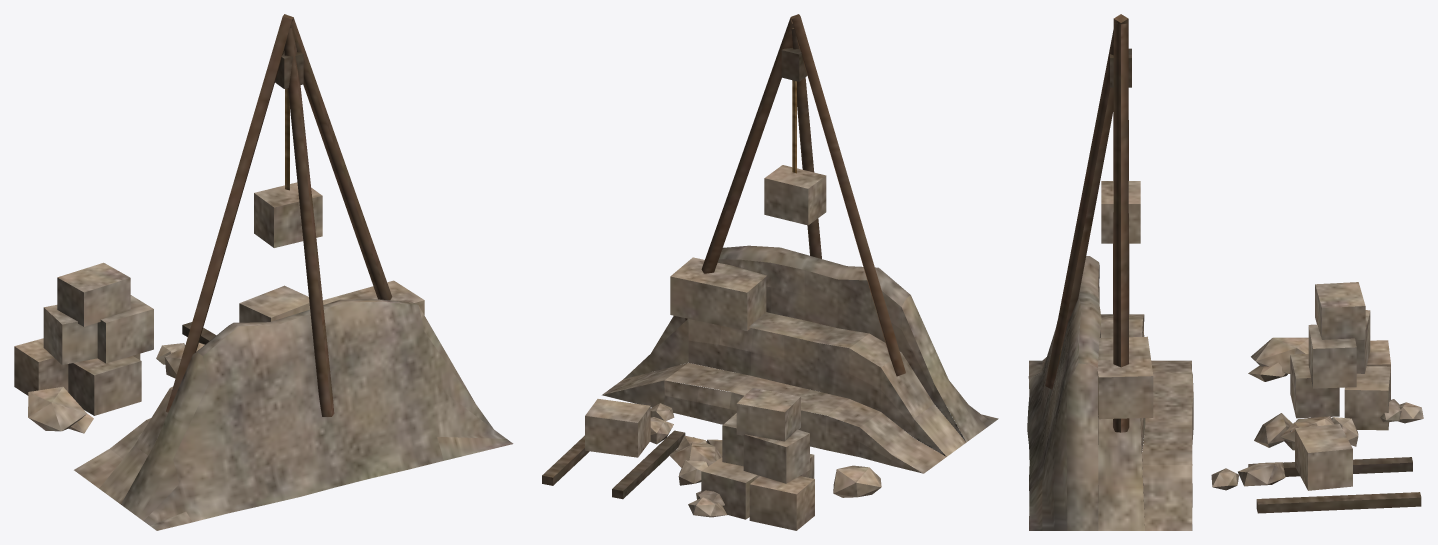
File: b_quarry_far.glb
3 renders of one model, left to right at view 1: azimuth 30°, elevation 25°; view 2: azimuth 150°, elevation 25°; view 3: azimuth 270°, elevation 25°, orthographic. The views are drawn at different scales.
Parts seen in each view (by area): view 1: b_quarry_far; view 2: b_quarry_far; view 3: b_quarry_far.
Part boxes in pixels (box(x1,y1,x2,y2)): b_quarry_far: box(14, 14, 513, 530); b_quarry_far: box(542, 14, 998, 530); b_quarry_far: box(1027, 14, 1423, 530).
Size of the model in its own units: 3.68 by 4.32 by 3.62.
Materials: 1 (1 with a texture image).
